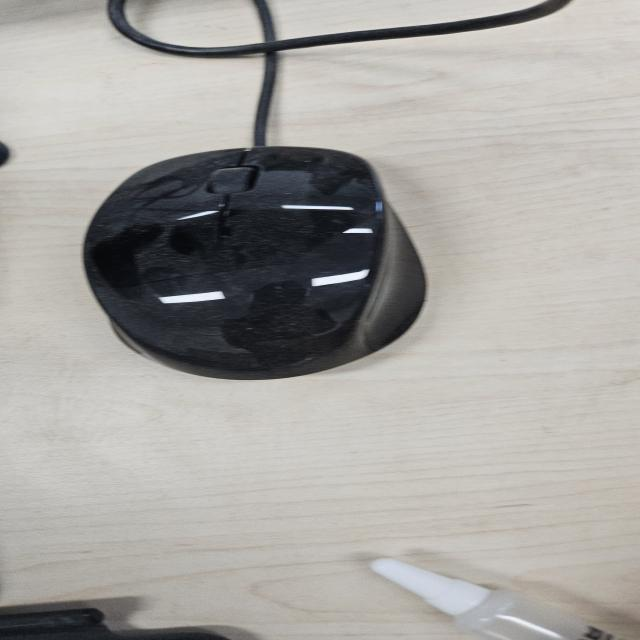Mouse: (80, 144, 430, 381)
